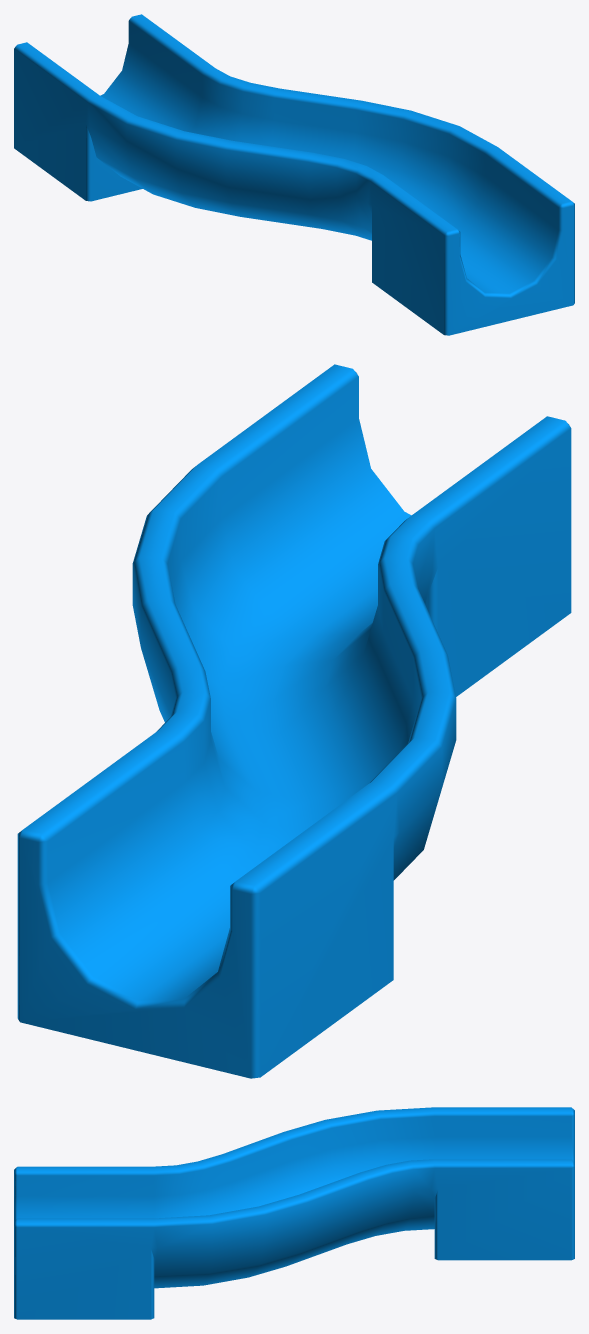
Rendered from Track Esse 2x4.fbx.
The picture shows the model from 3 angles, top to bottom: view 1: azimuth 30°, elevation 25°; view 2: azimuth 150°, elevation 25°; view 3: azimuth 270°, elevation 25°; orthographic projection. The views are drawn at different scales.
Visible parts, largest first — view 1: Track Esse 2x4; view 2: Track Esse 2x4; view 3: Track Esse 2x4.
Boxes of the visible parts, x1,y1,x2,y2 form: Track Esse 2x4: (14, 14, 574, 335); Track Esse 2x4: (17, 364, 571, 1078); Track Esse 2x4: (14, 1107, 574, 1319).
Bounding box in the file's own units: 200 × 75 × 400.
